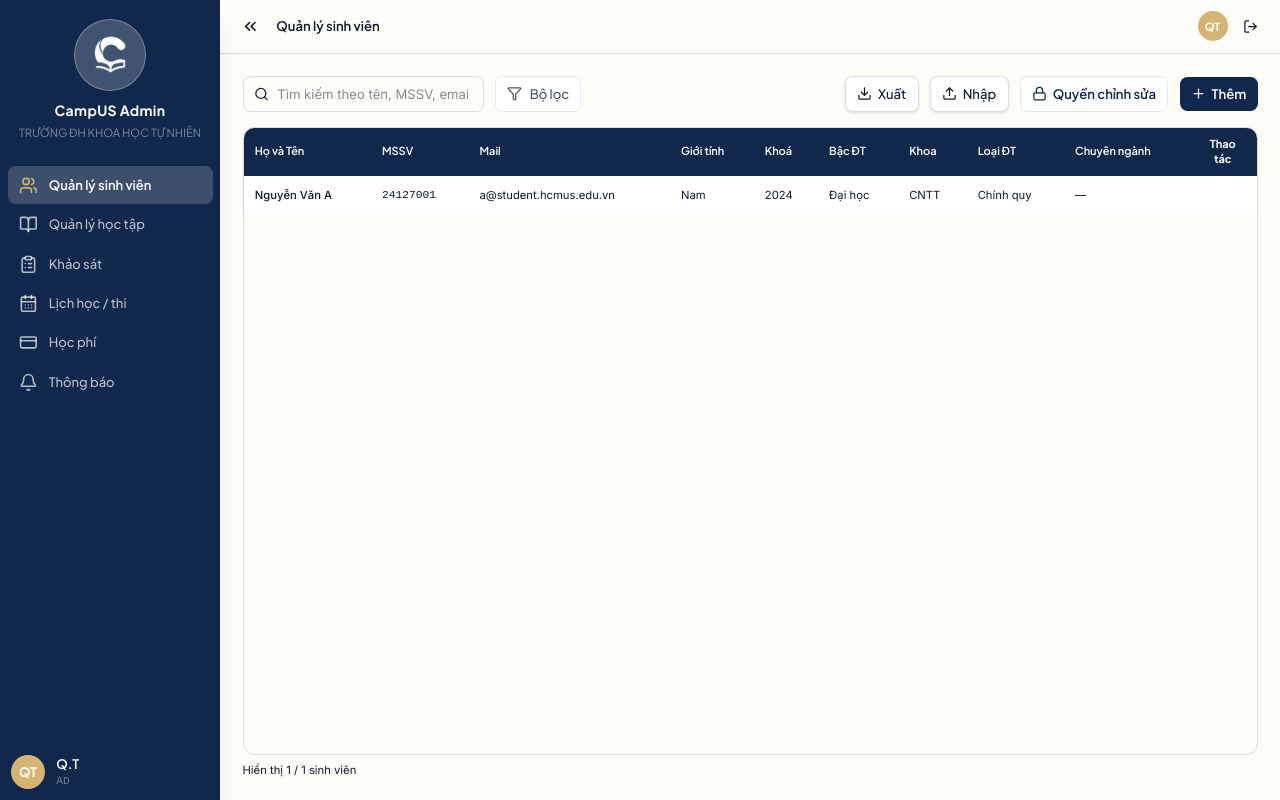
Scenario: Unit Test: Manage Profile Update Periods (UC 2.17) › [TC_2.17_01 & 02]: Verify opening panel and toggling status switch
This screenshot has width=1280, height=800.
Note: [TC_01]: Mở panel Quyền chỉnh sửa
Click the button "Quyền chỉnh sửa". click: (1094, 94)
box: [1020, 76, 1168, 112]
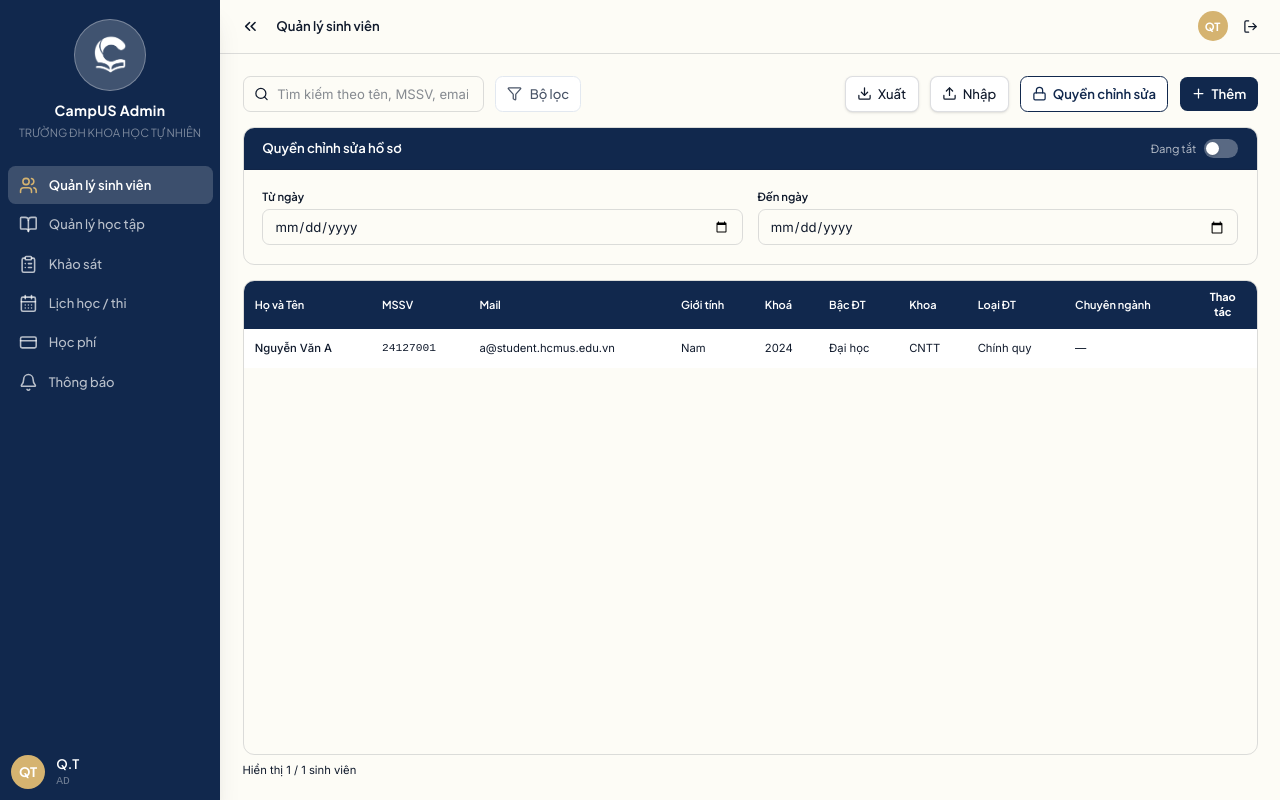
Result: the text "Quyền chỉnh sửa hồ sơ" is shown at [262, 139, 402, 158]
Result: the text "Đang tắt" is shown at [1151, 141, 1196, 156]
Result: the text "Từ ngày" is shown at [262, 189, 304, 203]
Click the button without text next to "Đang tắt". click: (1221, 148)
box: [1204, 139, 1238, 158]
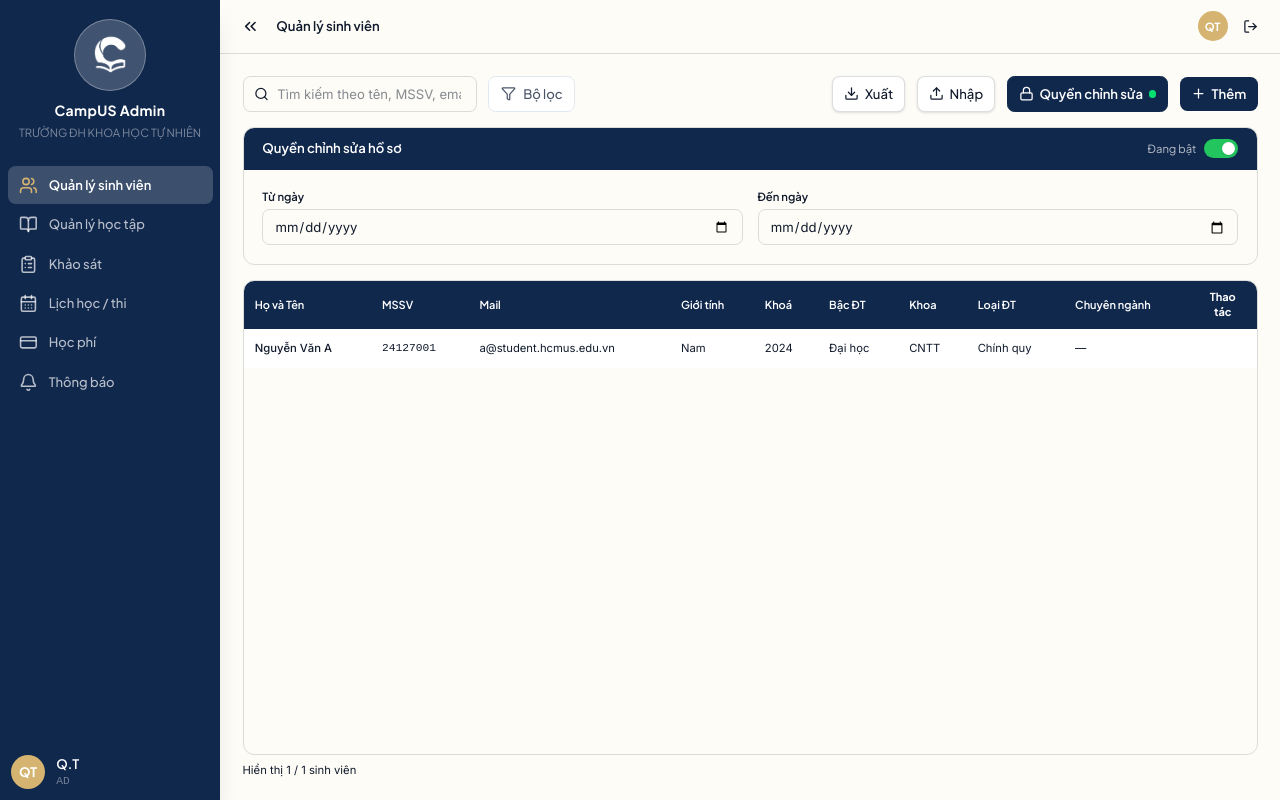
Result: the text "Đang bật" is shown at [1148, 141, 1196, 156]
